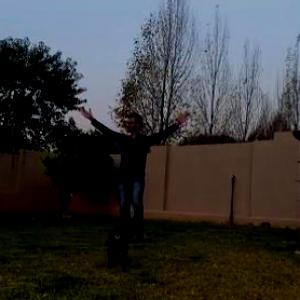takeoff: (74, 94, 203, 242)
